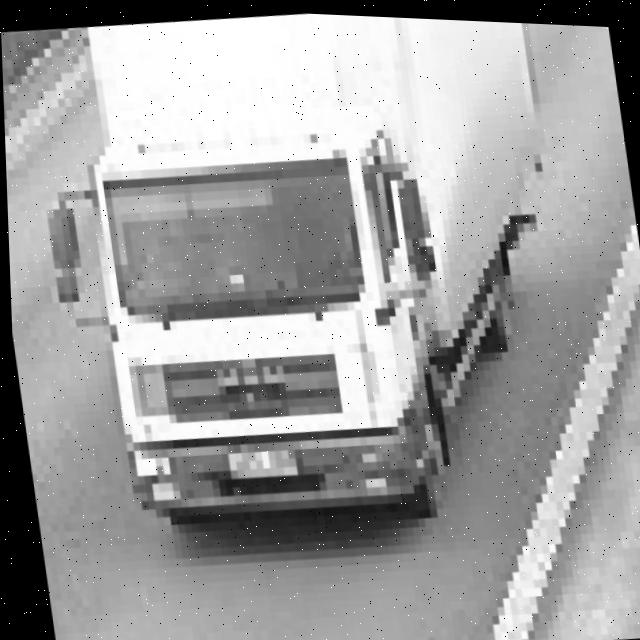truck: (22, 53, 493, 553)
